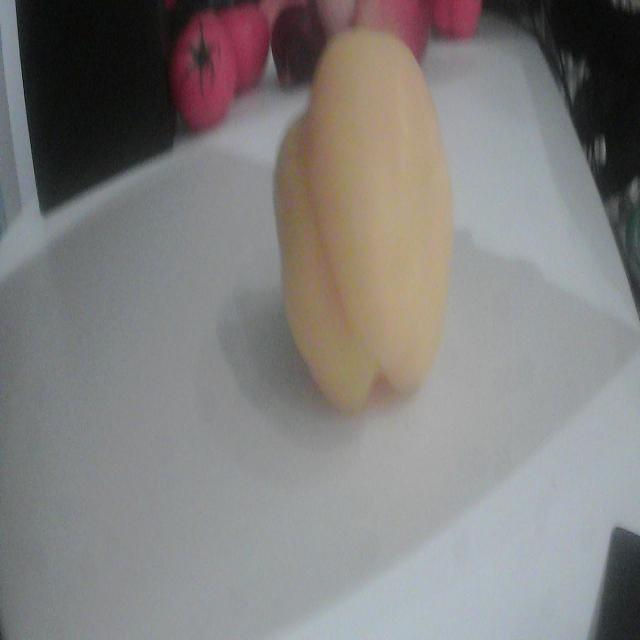Bell Pepper: (274, 29, 452, 413)
Tomato: (170, 11, 236, 131)
